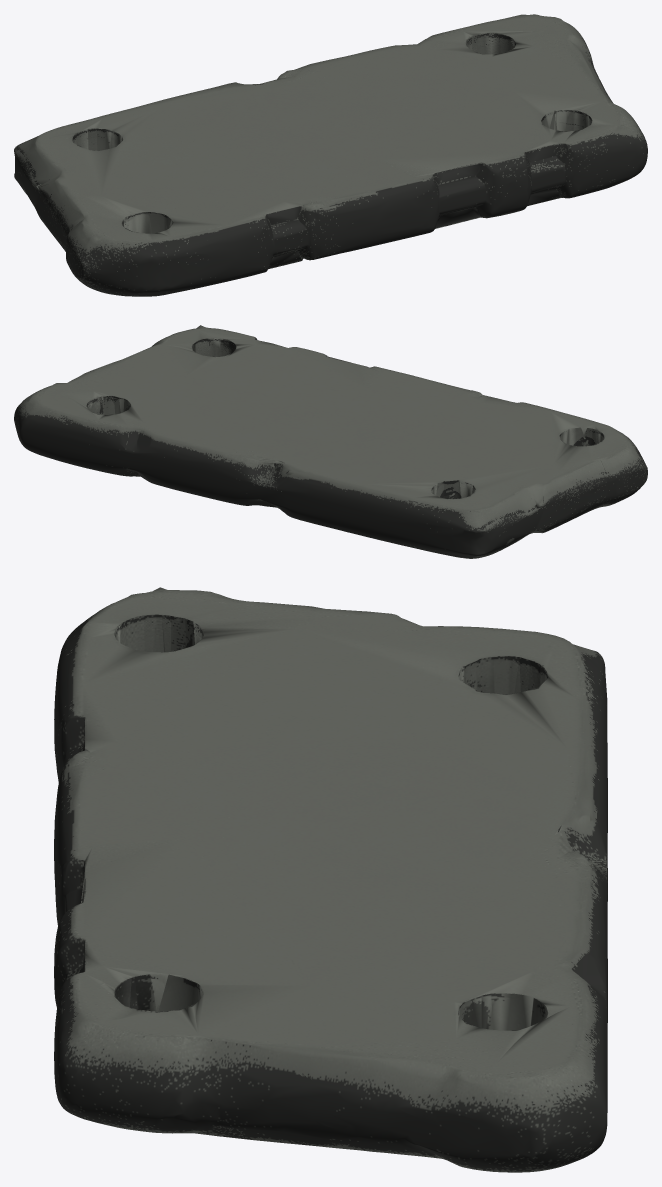
Rendered from 22_debris_long_plate.fbx.
3 views of the same model, one above another, from view 1: azimuth 30°, elevation 25°; view 2: azimuth 150°, elevation 25°; view 3: azimuth 270°, elevation 25° (orthographic). The views are drawn at different scales.
Parts seen in each view (by area): view 1: 22_debris_long_plate; view 2: 22_debris_long_plate; view 3: 22_debris_long_plate.
Boxes of the visible parts, x1=… form: 22_debris_long_plate: x1=14, y1=14, x2=647, y2=296; 22_debris_long_plate: x1=14, y1=325, x2=647, y2=558; 22_debris_long_plate: x1=54, y1=587, x2=607, y2=1172.
Size of the model in its own units: 0.8 by 0.0704 by 0.3599.
1 material, 1 textured.
